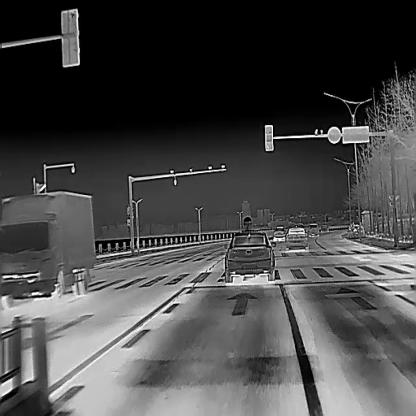car: (224, 232, 275, 281), (284, 226, 308, 249), (272, 225, 286, 241), (308, 221, 320, 236), (319, 223, 328, 231)
truck: (0, 189, 96, 309)
